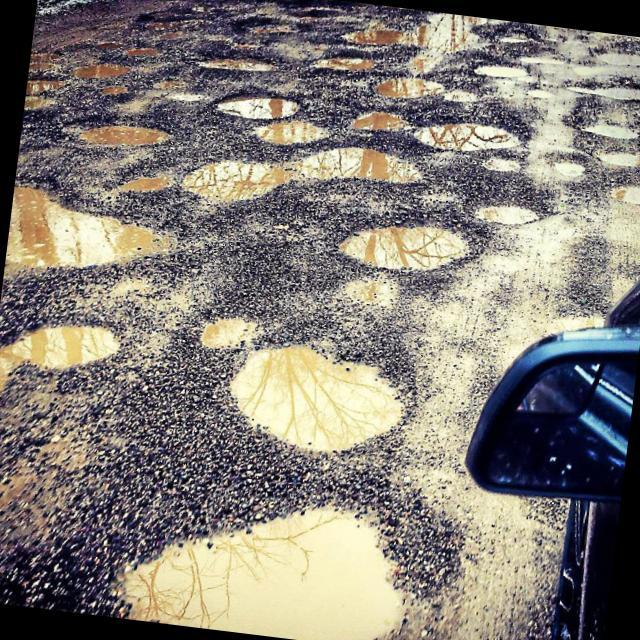Pothole: (119, 465, 418, 640), (222, 323, 414, 465), (6, 166, 167, 288), (0, 303, 122, 411), (331, 208, 465, 286), (294, 135, 422, 198), (187, 144, 287, 212), (64, 111, 176, 155), (427, 104, 512, 156), (472, 194, 550, 242), (194, 302, 260, 354), (215, 86, 300, 124), (195, 49, 284, 84), (565, 73, 640, 112), (548, 148, 589, 182)
